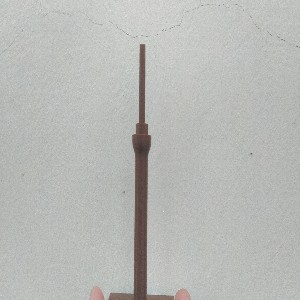obeng: (132, 43, 152, 300)
